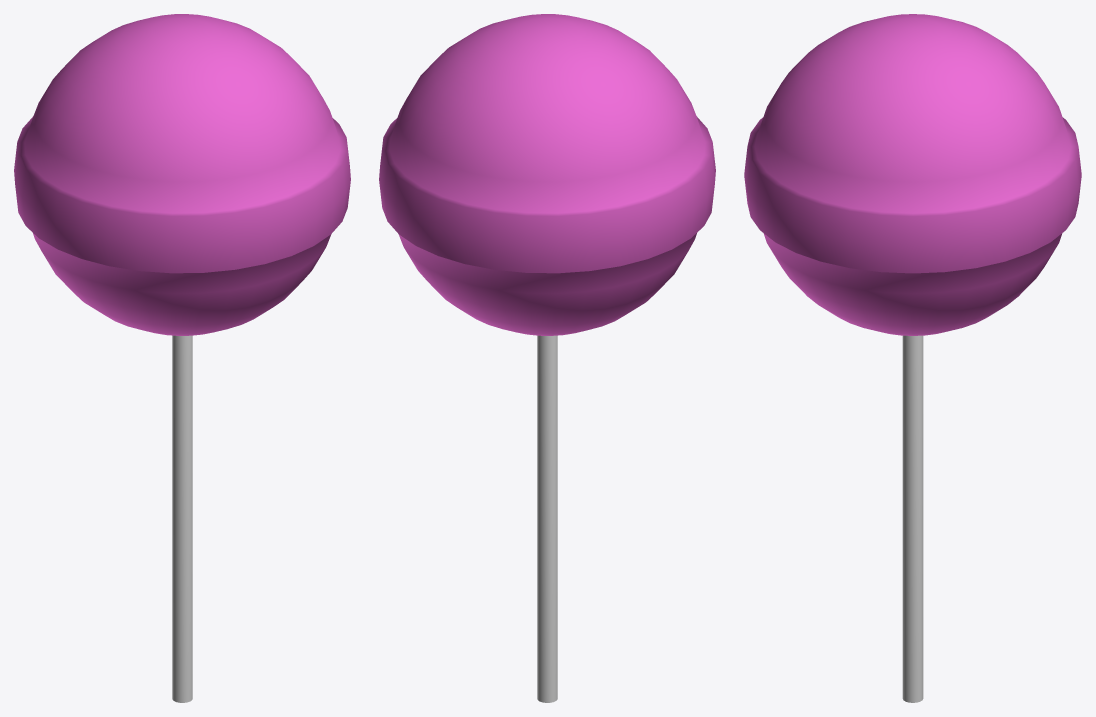
Rendered from lollipop.fbx.
3 renders of one model, left to right at view 1: azimuth 30°, elevation 25°; view 2: azimuth 150°, elevation 25°; view 3: azimuth 270°, elevation 25°, orthographic.
Visible parts, largest first — view 1: #lollipop; view 2: #lollipop; view 3: #lollipop.
Part boxes in pixels (bbox=[...]): #lollipop: bbox=[14, 14, 350, 702]; #lollipop: bbox=[379, 14, 715, 702]; #lollipop: bbox=[744, 14, 1081, 702].
Size of the model in its own units: 168 by 367 by 168.
